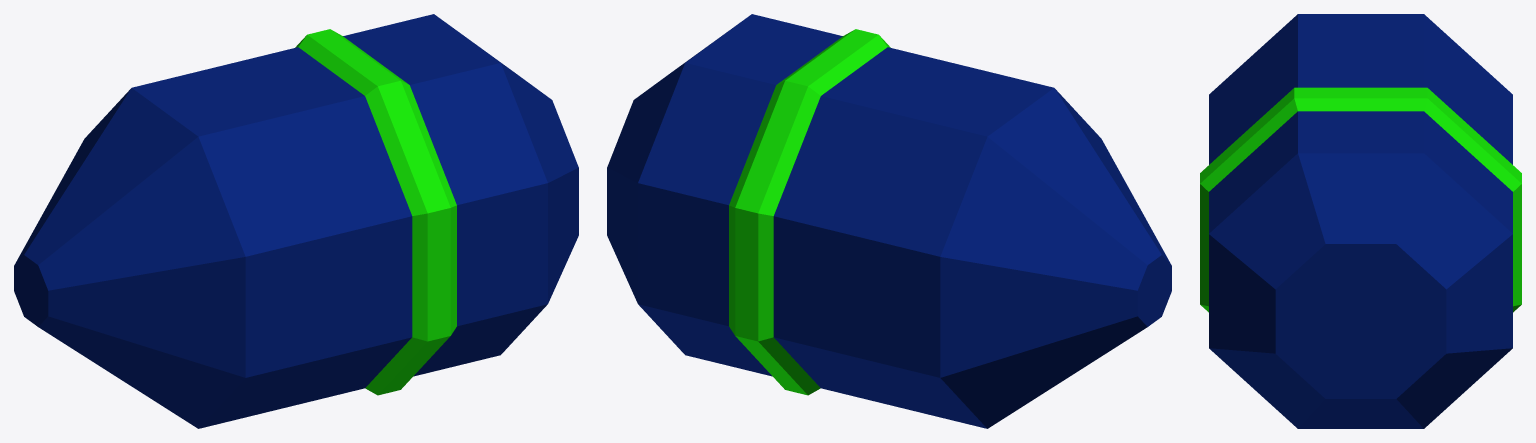
The model's file is player_body.gltf.
The picture shows the model from 3 angles, left to right: view 1: azimuth 30°, elevation 25°; view 2: azimuth 150°, elevation 25°; view 3: azimuth 270°, elevation 25°; orthographic projection. The views are drawn at different scales.
Parts seen in each view (by area): view 1: Cylinder; view 2: Cylinder; view 3: Cylinder.
Part boxes in pixels (x1,y1,x2,y2): Cylinder: [14, 14, 578, 428]; Cylinder: [607, 14, 1171, 428]; Cylinder: [1200, 14, 1521, 428].
Size of the model in its own units: 1.73 by 1.02 by 1.02.
